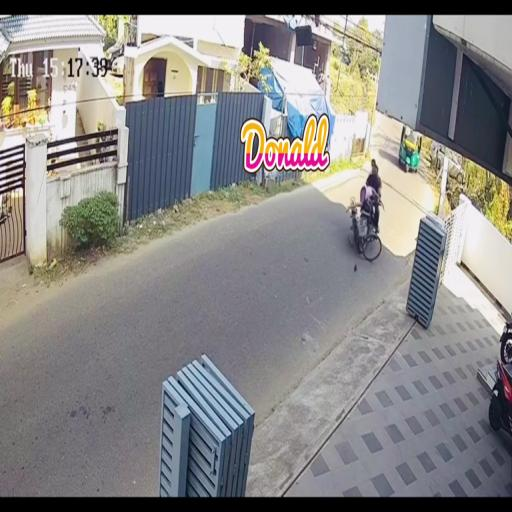自行车撞自行车: (344, 157, 384, 262)
